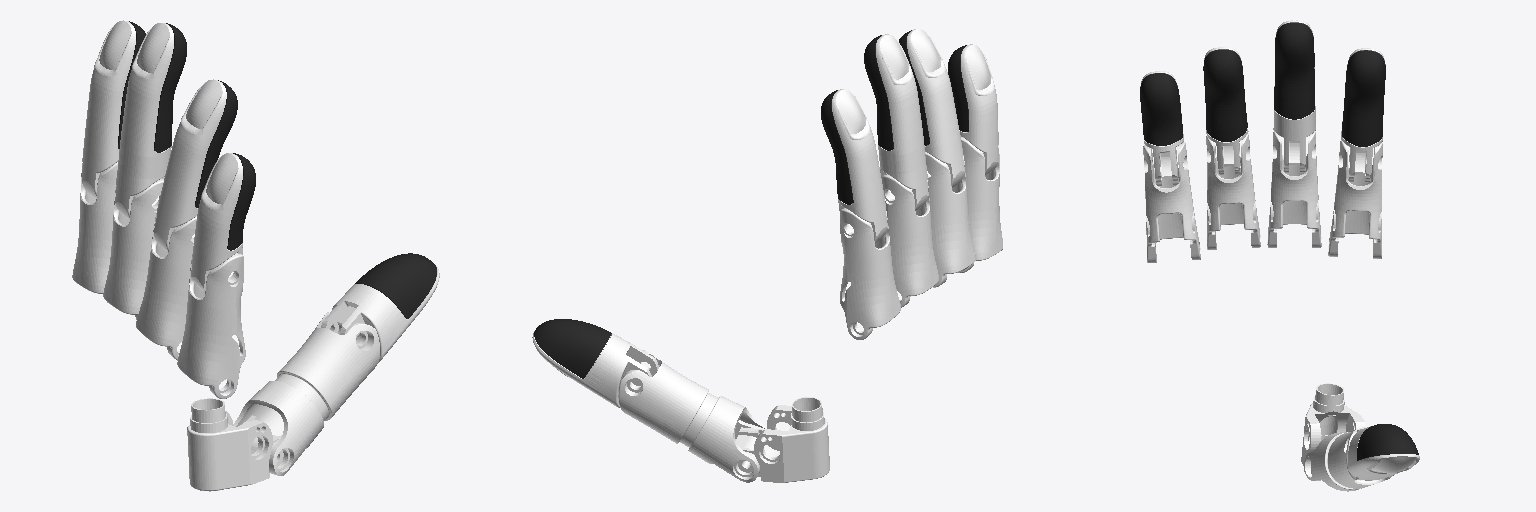
The robot description file, URDF, robot "DH126S-R000-A1":
<?xml version="1.0" encoding="utf-8"?>
<!-- This URDF was automatically created by SolidWorks to URDF Exporter! Originally created by [author] ([email redacted]) 
     Commit Version: 1.6.0-4-g7f85cfe  Build Version: 1.6.7995.38578
     For more information, please see http://wiki.ros.org/sw_urdf_exporter -->
<robot
  name="DH126S-R000-A1">
  <link
    name="base_link">
    <inertial>
      <origin
        xyz="-0.0052741 0.002479 0.057207"
        rpy="0 0 0" />
      <mass
        value="0.10866" />
      <inertia
        ixx="8.6558E-05"
        ixy="1.592E-07"
        ixz="2.7057E-06"
        iyy="5.5287E-05"
        iyz="-4.058E-07"
        izz="4.1066E-05" />
    </inertial>
    <visual>
      <origin
        xyz="0 0 0"
        rpy="0 0 0" />
      <geometry>
        <mesh
          filename="package://lhandpro_description/meshes/base_link.STL" />
      </geometry>
      <material
        name="">
        <color
          rgba="1 1 1 1" />
      </material>
    </visual>
    <collision>
      <origin
        xyz="0 0 0"
        rpy="0 0 0" />
      <geometry>
        <mesh
          filename="package://lhandpro_description/meshes/base_link.STL" />
      </geometry>
    </collision>
  </link>
  <link
    name="finger11_link">
    <inertial>
      <origin
        xyz="0.0078225 0.0020462 -0.0025622"
        rpy="0 0 0" />
      <mass
        value="0.010254" />
      <inertia
        ixx="7.2142E-07"
        ixy="-1.1025E-07"
        ixz="1.8578E-07"
        iyy="1.1141E-06"
        iyz="4.8596E-08"
        izz="1.144E-06" />
    </inertial>
    <visual>
      <origin
        xyz="0 0 0"
        rpy="0 0 0" />
      <geometry>
        <mesh
          filename="package://lhandpro_description/meshes/finger11_link.STL" />
      </geometry>
      <material
        name="">
        <color
          rgba="1 1 1 1" />
      </material>
    </visual>
    <collision>
      <origin
        xyz="0 0 0"
        rpy="0 0 0" />
      <geometry>
        <mesh
          filename="package://lhandpro_description/meshes/finger11_link.STL" />
      </geometry>
    </collision>
  </link>
  <joint
    name="finger11"
    type="revolute">
    <origin
      xyz="0.018 0.021747 0.043279"
      rpy="-0.087266 0 0" />
    <parent
      link="base_link" />
    <child
      link="finger11_link" />
    <axis
      xyz="0 0 -1" />
    <limit
      lower="-1.57"
      upper="1.57"
      effort="0"
      velocity="0" />
  </joint>
  <link
    name="finger12_link">
    <inertial>
      <origin
        xyz="0.0014182 -1.2893E-06 0.024329"
        rpy="0 0 0" />
      <mass
        value="0.010145" />
      <inertia
        ixx="2.4795E-06"
        ixy="2.3633E-11"
        ixz="-9.1895E-08"
        iyy="2.2943E-06"
        iyz="4.4162E-11"
        izz="8.8906E-07" />
    </inertial>
    <visual>
      <origin
        xyz="0 0 0"
        rpy="0 0 0" />
      <geometry>
        <mesh
          filename="package://lhandpro_description/meshes/finger12_link.STL" />
      </geometry>
      <material
        name="">
        <color
          rgba="1 1 1 1" />
      </material>
    </visual>
    <collision>
      <origin
        xyz="0 0 0"
        rpy="0 0 0" />
      <geometry>
        <mesh
          filename="package://lhandpro_description/meshes/finger12_link.STL" />
      </geometry>
    </collision>
  </link>
  <joint
    name="finger12"
    type="revolute">
    <origin
      xyz="0.018876 0.0049375 -0.0056093"
      rpy="0 0.95149 0.25585" />
    <parent
      link="finger11_link" />
    <child
      link="finger12_link" />
    <axis
      xyz="0 -1 0" />
    <limit
      lower="0"
      upper="1.57"
      effort="0"
      velocity="0" />
  </joint>
  <link
    name="finger13_link">
    <inertial>
      <origin
        xyz="0.0064864 -1.72E-06 0.014709"
        rpy="0 0 0" />
      <mass
        value="0.020548" />
      <inertia
        ixx="2.4642E-06"
        ixy="2.2654E-10"
        ixz="-1.276E-07"
        iyy="2.3555E-06"
        iyz="3.4328E-10"
        izz="8.7678E-07" />
    </inertial>
    <visual>
      <origin
        xyz="0 0 0"
        rpy="0 0 0" />
      <geometry>
        <mesh
          filename="package://lhandpro_description/meshes/finger13_link.STL" />
      </geometry>
      <material
        name="">
        <color
          rgba="1 1 1 1" />
      </material>
    </visual>
    <collision>
      <origin
        xyz="0 0 0"
        rpy="0 0 0" />
      <geometry>
        <mesh
          filename="package://lhandpro_description/meshes/finger13_link.STL" />
      </geometry>
    </collision>
  </link>
  <joint
    name="finger13"
    type="revolute">
    <origin
      xyz="0 0 0.045"
      rpy="0 0 0" />
    <parent
      link="finger12_link" />
    <child
      link="finger13_link" />
    <axis
      xyz="0 -1 0" />
    <limit
      lower="0"
      upper="1.57"
      effort="0"
      velocity="0" />
  </joint>
  <link
    name="finger14_link">
    <inertial>
      <origin
        xyz="0.0030983 8.624E-07 0.024752"
        rpy="0 0 0" />
      <mass
        value="0.00064654" />
      <inertia
        ixx="4.6206E-08"
        ixy="-1.7511E-11"
        ixz="-7.0078E-09"
        iyy="3.0972E-08"
        iyz="3.3703E-12"
        izz="3.328E-08" />
    </inertial>
    <visual>
      <origin
        xyz="0 0 0"
        rpy="0 0 0" />
      <geometry>
        <mesh
          filename="package://lhandpro_description/meshes/finger14_link.STL" />
      </geometry>
      <material
        name="">
        <color
          rgba="0.2 0.2 0.2 1" />
      </material>
    </visual>
    <collision>
      <origin
        xyz="0 0 0"
        rpy="0 0 0" />
      <geometry>
        <mesh
          filename="package://lhandpro_description/meshes/finger14_link.STL" />
      </geometry>
    </collision>
  </link>
  <joint
    name="finger14"
    type="fixed">
    <origin
      xyz="0 0 0"
      rpy="0 0 0" />
    <parent
      link="finger13_link" />
    <child
      link="finger14_link" />
    <axis
      xyz="0 0 0" />
    <limit
      lower="0"
      upper="1.57"
      effort="0"
      velocity="0" />
  </joint>
  <link
    name="finger21_link">
    <inertial>
      <origin
        xyz="-0.0017978 3.2789E-07 0.018686"
        rpy="0 0 0" />
      <mass
        value="0.0067143" />
      <inertia
        ixx="1.1951E-06"
        ixy="6.7451E-12"
        ixz="-4.4967E-09"
        iyy="1.0688E-06"
        iyz="-2.4168E-12"
        izz="3.7304E-07" />
    </inertial>
    <visual>
      <origin
        xyz="0 0 0"
        rpy="0 0 0" />
      <geometry>
        <mesh
          filename="package://lhandpro_description/meshes/finger21_link.STL" />
      </geometry>
      <material
        name="">
        <color
          rgba="1 1 1 1" />
      </material>
    </visual>
    <collision>
      <origin
        xyz="0 0 0"
        rpy="0 0 0" />
      <geometry>
        <mesh
          filename="package://lhandpro_description/meshes/finger21_link.STL" />
      </geometry>
    </collision>
  </link>
  <joint
    name="finger21"
    type="revolute">
    <origin
      xyz="-0.011581 0.031971 0.10003"
      rpy="-0.052657 0.10625 -0.0055894" />
    <parent
      link="base_link" />
    <child
      link="finger21_link" />
    <axis
      xyz="0 1 0" />
    <limit
      lower="0"
      upper="1.57"
      effort="0"
      velocity="0" />
  </joint>
  <link
    name="finger22_link">
    <inertial>
      <origin
        xyz="-0.0019337 7.2998E-07 0.02175"
        rpy="0 0 0" />
      <mass
        value="0.014789" />
      <inertia
        ixx="1.4665E-06"
        ixy="1.1416E-11"
        ixz="-1.6584E-07"
        iyy="1.4889E-06"
        iyz="-9.2753E-11"
        izz="3.5281E-07" />
    </inertial>
    <visual>
      <origin
        xyz="0 0 0"
        rpy="0 0 0" />
      <geometry>
        <mesh
          filename="package://lhandpro_description/meshes/finger22_link.STL" />
      </geometry>
      <material
        name="">
        <color
          rgba="1 1 1 1" />
      </material>
    </visual>
    <collision>
      <origin
        xyz="0 0 0"
        rpy="0 0 0" />
      <geometry>
        <mesh
          filename="package://lhandpro_description/meshes/finger22_link.STL" />
      </geometry>
    </collision>
  </link>
  <joint
    name="finger22"
    type="revolute">
    <origin
      xyz="0 0 0.035"
      rpy="0 0 0" />
    <parent
      link="finger21_link" />
    <child
      link="finger22_link" />
    <axis
      xyz="0 1 0" />
    <limit
      lower="0"
      upper="1.57"
      effort="0"
      velocity="0" />
  </joint>
  <link
    name="finger23_link">
    <inertial>
      <origin
        xyz="0.0027534 -5.1038E-07 0.027456"
        rpy="0 0 0" />
      <mass
        value="0.00083419" />
      <inertia
        ixx="1.0852E-07"
        ixy="-2.4081E-13"
        ixz="-9.2843E-09"
        iyy="9.6252E-08"
        iyz="-2.9524E-12"
        izz="2.404E-08" />
    </inertial>
    <visual>
      <origin
        xyz="0 0 0"
        rpy="0 0 0" />
      <geometry>
        <mesh
          filename="package://lhandpro_description/meshes/finger23_link.STL" />
      </geometry>
      <material
        name="">
        <color
          rgba="0.2 0.2 0.2 1" />
      </material>
    </visual>
    <collision>
      <origin
        xyz="0 0 0"
        rpy="0 0 0" />
      <geometry>
        <mesh
          filename="package://lhandpro_description/meshes/finger23_link.STL" />
      </geometry>
    </collision>
  </link>
  <joint
    name="finger23"
    type="fixed">
    <origin
      xyz="0 0 0"
      rpy="0 0 0" />
    <parent
      link="finger22_link" />
    <child
      link="finger23_link" />
    <axis
      xyz="0 0 0" />
    <limit
      lower="0"
      upper="1.57"
      effort="0"
      velocity="0" />
  </joint>
  <link
    name="finger31_link">
    <inertial>
      <origin
        xyz="-0.0017978 3.3269E-07 0.018686"
        rpy="0 0 0" />
      <mass
        value="0.0067141" />
      <inertia
        ixx="1.1951E-06"
        ixy="1.1431E-11"
        ixz="-4.4917E-09"
        iyy="1.0688E-06"
        iyz="8.2241E-12"
        izz="3.7303E-07" />
    </inertial>
    <visual>
      <origin
        xyz="0 0 0"
        rpy="0 0 0" />
      <geometry>
        <mesh
          filename="package://lhandpro_description/meshes/finger31_link.STL" />
      </geometry>
      <material
        name="">
        <color
          rgba="1 1 1 1" />
      </material>
    </visual>
    <collision>
      <origin
        xyz="0 0 0"
        rpy="0 0 0" />
      <geometry>
        <mesh
          filename="package://lhandpro_description/meshes/finger31_link.STL" />
      </geometry>
    </collision>
  </link>
  <joint
    name="finger31"
    type="revolute">
    <origin
      xyz="-0.013501 0.0105 0.10286"
      rpy="0 0.10214 0" />
    <parent
      link="base_link" />
    <child
      link="finger31_link" />
    <axis
      xyz="0 1 0" />
    <limit
      lower="0"
      upper="1.57"
      effort="0"
      velocity="0" />
  </joint>
  <link
    name="finger32_link">
    <inertial>
      <origin
        xyz="-0.0021242 6.6141E-08 0.024943"
        rpy="0 0 0" />
      <mass
        value="0.017444" />
      <inertia
        ixx="4.1711E-06"
        ixy="1.8194E-11"
        ixz="-2.6488E-07"
        iyy="4.1927E-06"
        iyz="-1.6389E-11"
        izz="4.4322E-07" />
    </inertial>
    <visual>
      <origin
        xyz="0 0 0"
        rpy="0 0 0" />
      <geometry>
        <mesh
          filename="package://lhandpro_description/meshes/finger32_link.STL" />
      </geometry>
      <material
        name="">
        <color
          rgba="1 1 1 1" />
      </material>
    </visual>
    <collision>
      <origin
        xyz="0 0 0"
        rpy="0 0 0" />
      <geometry>
        <mesh
          filename="package://lhandpro_description/meshes/finger32_link.STL" />
      </geometry>
    </collision>
  </link>
  <joint
    name="finger32"
    type="revolute">
    <origin
      xyz="0 0 0.035"
      rpy="0 0 0" />
    <parent
      link="finger31_link" />
    <child
      link="finger32_link" />
    <axis
      xyz="0 1 0" />
    <limit
      lower="0"
      upper="1.57"
      effort="0"
      velocity="0" />
  </joint>
  <link
    name="finger33_link">
    <inertial>
      <origin
        xyz="0.0025776 -4.8031E-07 0.03447"
        rpy="0 0 0" />
      <mass
        value="0.00083416" />
      <inertia
        ixx="1.0861E-07"
        ixy="1.3942E-12"
        ixz="-8.8309E-09"
        iyy="9.6246E-08"
        iyz="-5.9916E-13"
        izz="2.3939E-08" />
    </inertial>
    <visual>
      <origin
        xyz="0 0 0"
        rpy="0 0 0" />
      <geometry>
        <mesh
          filename="package://lhandpro_description/meshes/finger33_link.STL" />
      </geometry>
      <material
        name="">
        <color
          rgba="0.2 0.2 0.2 1" />
      </material>
    </visual>
    <collision>
      <origin
        xyz="0 0 0"
        rpy="0 0 0" />
      <geometry>
        <mesh
          filename="package://lhandpro_description/meshes/finger33_link.STL" />
      </geometry>
    </collision>
  </link>
  <joint
    name="finger33"
    type="fixed">
    <origin
      xyz="0 0 0"
      rpy="0 0 0" />
    <parent
      link="finger32_link" />
    <child
      link="finger33_link" />
    <axis
      xyz="0 0 0" />
    <limit
      lower="0"
      upper="1.57"
      effort="0"
      velocity="0" />
  </joint>
  <link
    name="finger41_link">
    <inertial>
      <origin
        xyz="-0.0017978 2.8835E-07 0.018686"
        rpy="0 0 0" />
      <mass
        value="0.006714" />
      <inertia
        ixx="1.1951E-06"
        ixy="1.5194E-11"
        ixz="-4.4902E-09"
        iyy="1.0688E-06"
        iyz="1.057E-11"
        izz="3.7303E-07" />
    </inertial>
    <visual>
      <origin
        xyz="0 0 0"
        rpy="0 0 0" />
      <geometry>
        <mesh
          filename="package://lhandpro_description/meshes/finger41_link.STL" />
      </geometry>
      <material
        name="">
        <color
          rgba="1 1 1 1" />
      </material>
    </visual>
    <collision>
      <origin
        xyz="0 0 0"
        rpy="0 0 0" />
      <geometry>
        <mesh
          filename="package://lhandpro_description/meshes/finger41_link.STL" />
      </geometry>
    </collision>
  </link>
  <joint
    name="finger41"
    type="revolute">
    <origin
      xyz="-0.015081 -0.010971 0.10183"
      rpy="0.052889 0.14148 0.0074648" />
    <parent
      link="base_link" />
    <child
      link="finger41_link" />
    <axis
      xyz="0 1 0" />
    <limit
      lower="0"
      upper="1.57"
      effort="0"
      velocity="0" />
  </joint>
  <link
    name="finger42_link">
    <inertial>
      <origin
        xyz="-0.00099481 6.0006E-07 0.021813"
        rpy="0 0 0" />
      <mass
        value="0.014788" />
      <inertia
        ixx="1.4501E-06"
        ixy="2.324E-11"
        ixz="-2.1315E-07"
        iyy="1.4888E-06"
        iyz="-8.582E-11"
        izz="3.6915E-07" />
    </inertial>
    <visual>
      <origin
        xyz="0 0 0"
        rpy="0 0 0" />
      <geometry>
        <mesh
          filename="package://lhandpro_description/meshes/finger42_link.STL" />
      </geometry>
      <material
        name="">
        <color
          rgba="1 1 1 1" />
      </material>
    </visual>
    <collision>
      <origin
        xyz="0 0 0"
        rpy="0 0 0" />
      <geometry>
        <mesh
          filename="package://lhandpro_description/meshes/finger42_link.STL" />
      </geometry>
    </collision>
  </link>
  <joint
    name="finger42"
    type="revolute">
    <origin
      xyz="0 0 0.035"
      rpy="0 0 0" />
    <parent
      link="finger41_link" />
    <child
      link="finger42_link" />
    <axis
      xyz="0 1 0" />
    <limit
      lower="0"
      upper="1.57"
      effort="0"
      velocity="0" />
  </joint>
  <link
    name="finger43_link">
    <inertial>
      <origin
        xyz="0.0039336 -3.2576E-07 0.027311"
        rpy="0 0 0" />
      <mass
        value="0.0008342" />
      <inertia
        ixx="1.0756E-07"
        ixy="5.2726E-13"
        ixz="-1.2886E-08"
        iyy="9.6251E-08"
        iyz="-6.5627E-13"
        izz="2.4997E-08" />
    </inertial>
    <visual>
      <origin
        xyz="0 0 0"
        rpy="0 0 0" />
      <geometry>
        <mesh
          filename="package://lhandpro_description/meshes/finger43_link.STL" />
      </geometry>
      <material
        name="">
        <color
          rgba="0.2 0.2 0.2 1" />
      </material>
    </visual>
    <collision>
      <origin
        xyz="0 0 0"
        rpy="0 0 0" />
      <geometry>
        <mesh
          filename="package://lhandpro_description/meshes/finger43_link.STL" />
      </geometry>
    </collision>
  </link>
  <joint
    name="finger43"
    type="fixed">
    <origin
      xyz="0 0 0"
      rpy="0 0 0" />
    <parent
      link="finger42_link" />
    <child
      link="finger43_link" />
    <axis
      xyz="0 0 0" />
    <limit
      lower="0"
      upper="1.57"
      effort="0"
      velocity="0" />
  </joint>
  <link
    name="finger51_link">
    <inertial>
      <origin
        xyz="-0.0017978 4.0336E-07 0.018686"
        rpy="0 0 0" />
      <mass
        value="0.0067142" />
      <inertia
        ixx="1.1951E-06"
        ixy="9.6674E-12"
        ixz="-4.4947E-09"
        iyy="1.0688E-06"
        iyz="3.902E-12"
        izz="3.7303E-07" />
    </inertial>
    <visual>
      <origin
        xyz="0 0 0"
        rpy="0 0 0" />
      <geometry>
        <mesh
          filename="package://lhandpro_description/meshes/finger51_link.STL" />
      </geometry>
      <material
        name="">
        <color
          rgba="1 1 1 1" />
      </material>
    </visual>
    <collision>
      <origin
        xyz="0 0 0"
        rpy="0 0 0" />
      <geometry>
        <mesh
          filename="package://lhandpro_description/meshes/finger51_link.STL" />
      </geometry>
    </collision>
  </link>
  <joint
    name="finger51"
    type="revolute">
    <origin
      xyz="-0.013081 -0.032156 0.097798"
      rpy="0.078754 0.073706 0.0058113" />
    <parent
      link="base_link" />
    <child
      link="finger51_link" />
    <axis
      xyz="0 1 0" />
    <limit
      lower="0"
      upper="1.57"
      effort="0"
      velocity="0" />
  </joint>
  <link
    name="finger52_link">
    <inertial>
      <origin
        xyz="-0.0024432 3.1795E-07 0.016659"
        rpy="0 0 0" />
      <mass
        value="0.010445" />
      <inertia
        ixx="1.336E-06"
        ixy="2.6011E-11"
        ixz="-1.1818E-07"
        iyy="1.3478E-06"
        iyz="-5.5233E-12"
        izz="2.4659E-07" />
    </inertial>
    <visual>
      <origin
        xyz="0 0 0"
        rpy="0 0 0" />
      <geometry>
        <mesh
          filename="package://lhandpro_description/meshes/finger52_link.STL" />
      </geometry>
      <material
        name="">
        <color
          rgba="1 1 1 1" />
      </material>
    </visual>
    <collision>
      <origin
        xyz="0 0 0"
        rpy="0 0 0" />
      <geometry>
        <mesh
          filename="package://lhandpro_description/meshes/finger52_link.STL" />
      </geometry>
    </collision>
  </link>
  <joint
    name="finger52"
    type="revolute">
    <origin
      xyz="0 0 0.035"
      rpy="0 0 0" />
    <parent
      link="finger51_link" />
    <child
      link="finger52_link" />
    <axis
      xyz="0 1 0" />
    <limit
      lower="0"
      upper="1.57"
      effort="0"
      velocity="0" />
  </joint>
  <link
    name="finger53_link">
    <inertial>
      <origin
        xyz="0.0021833 1.5926E-06 0.02278"
        rpy="0 0 0" />
      <mass
        value="0.00059177" />
      <inertia
        ixx="4.5328E-08"
        ixy="2.1034E-12"
        ixz="-3.5665E-09"
        iyy="3.6598E-08"
        iyz="-2.539E-12"
        izz="1.5894E-08" />
    </inertial>
    <visual>
      <origin
        xyz="0 0 0"
        rpy="0 0 0" />
      <geometry>
        <mesh
          filename="package://lhandpro_description/meshes/finger53_link.STL" />
      </geometry>
      <material
        name="">
        <color
          rgba="0.2 0.2 0.2 1" />
      </material>
    </visual>
    <collision>
      <origin
        xyz="0 0 0"
        rpy="0 0 0" />
      <geometry>
        <mesh
          filename="package://lhandpro_description/meshes/finger53_link.STL" />
      </geometry>
    </collision>
  </link>
  <joint
    name="finger53"
    type="fixed">
    <origin
      xyz="0 0 0"
      rpy="0 0 0" />
    <parent
      link="finger52_link" />
    <child
      link="finger53_link" />
    <axis
      xyz="0 0 0" />
    <limit
      lower="0"
      upper="1.57"
      effort="0"
      velocity="0" />
  </joint>
</robot>

--- What the picture shows (computed from the rendered views, not written in the file) ---
The picture shows the robot from 3 angles, left to right: view 1: azimuth 30°, elevation 25°; view 2: azimuth 150°, elevation 25°; view 3: azimuth 270°, elevation 25°; orthographic projection.
Robot: DH126S-R000-A1 — 17 links, 16 joints (11 revolute, 5 fixed); root link base_link; default pose: all joints at 0.
Visible links, largest first — view 1: finger12_link, finger51_link, finger32_link, finger11_link, finger42_link, finger22_link, finger41_link, finger31_link, finger52_link, finger21_link, finger13_link, finger14_link (+3 smaller); view 2: finger12_link, finger11_link, finger21_link, finger32_link, finger31_link, finger22_link, finger42_link, finger41_link, finger52_link, finger51_link, finger13_link, finger14_link (+3 smaller); view 3: finger51_link, finger21_link, finger31_link, finger41_link, finger33_link, finger23_link, finger43_link, finger53_link, finger11_link, finger12_link, finger32_link, finger13_link (+4 smaller).
Link boxes in pixels (left/top/right/bottom): finger12_link: left=233, top=312, right=379, bottom=475; finger51_link: left=177, top=253, right=245, bottom=398; finger32_link: left=115, top=23, right=173, bottom=219; finger11_link: left=187, top=398, right=283, bottom=491; finger42_link: left=154, top=79, right=226, bottom=251; finger22_link: left=82, top=20, right=135, bottom=198; finger41_link: left=136, top=213, right=196, bottom=360; finger31_link: left=103, top=179, right=163, bottom=319; finger52_link: left=191, top=153, right=242, bottom=291; finger21_link: left=72, top=162, right=117, bottom=302; finger13_link: left=321, top=266, right=439, bottom=362; finger14_link: left=355, top=253, right=436, bottom=318; finger12_link: left=618, top=350, right=766, bottom=482; finger11_link: left=736, top=397, right=829, bottom=482; finger21_link: left=840, top=208, right=900, bottom=339; finger32_link: left=876, top=34, right=928, bottom=210; finger31_link: left=881, top=174, right=938, bottom=307; finger22_link: left=832, top=89, right=887, bottom=242; finger42_link: left=907, top=29, right=964, bottom=187; finger41_link: left=925, top=152, right=975, bottom=287; finger52_link: left=959, top=44, right=998, bottom=175; finger51_link: left=960, top=137, right=1002, bottom=272; finger13_link: left=532, top=329, right=658, bottom=407; finger14_link: left=534, top=319, right=611, bottom=378; finger51_link: left=1143, top=142, right=1200, bottom=262; finger21_link: left=1328, top=140, right=1382, bottom=258; finger31_link: left=1267, top=131, right=1321, bottom=247; finger41_link: left=1206, top=134, right=1260, bottom=249; finger33_link: left=1274, top=23, right=1314, bottom=119; finger23_link: left=1342, top=50, right=1385, bottom=146; finger43_link: left=1203, top=50, right=1247, bottom=141; finger53_link: left=1140, top=73, right=1182, bottom=145; finger11_link: left=1301, top=383, right=1365, bottom=465; finger12_link: left=1304, top=427, right=1393, bottom=491; finger32_link: left=1273, top=20, right=1315, bottom=172; finger13_link: left=1347, top=426, right=1419, bottom=479.
Bounding box of the posed robot: 0.1309 × 0.0986 × 0.16 m (x, y, z).
16 mesh visuals loaded from 17 distinct referenced files (16 binary STL); not drawn: 1 (reference not matched to a file when rendering).